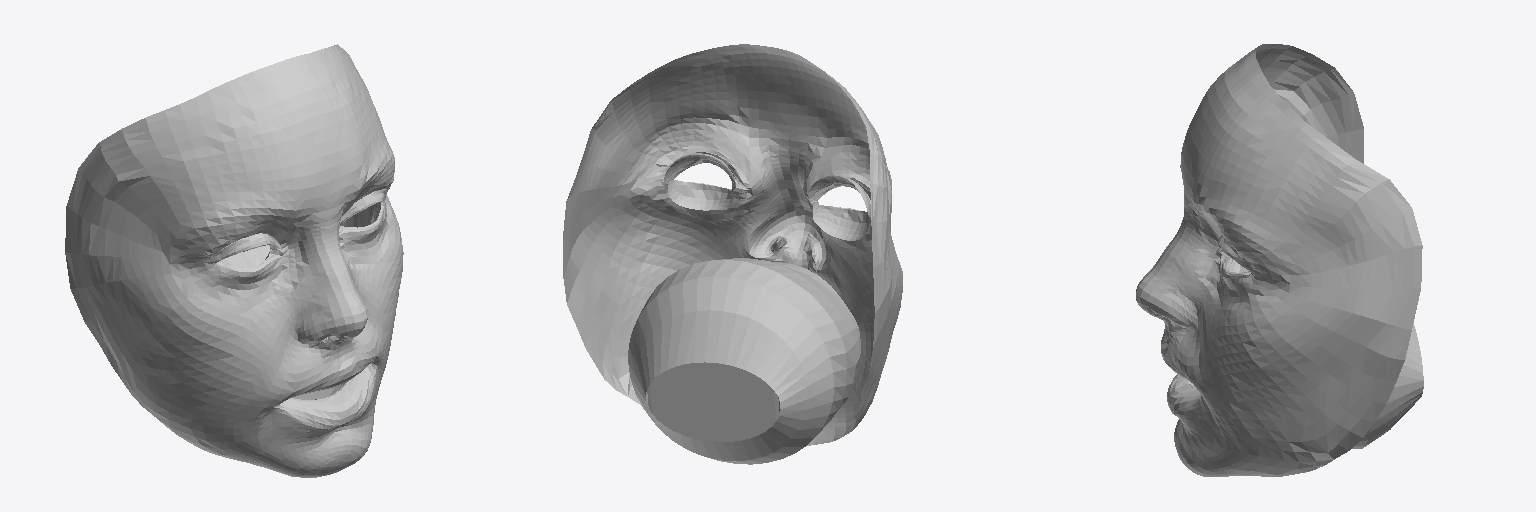
Rendered from mouth_LowerLipDepress.obj.
3 renders of one model, left to right at view 1: azimuth 30°, elevation 25°; view 2: azimuth 150°, elevation 25°; view 3: azimuth 270°, elevation 25°, orthographic.
Parts seen in each view (by area): view 1: face geoGroup Emily; view 2: face geoGroup Emily; view 3: face geoGroup Emily.
Part boxes in pixels (left/top/right/bottom): face geoGroup Emily: left=65, top=44, right=403, bottom=477; face geoGroup Emily: left=563, top=44, right=902, bottom=464; face geoGroup Emily: left=1136, top=44, right=1423, bottom=476.
Size of the model in its own units: 14.39 by 18.36 by 12.08.